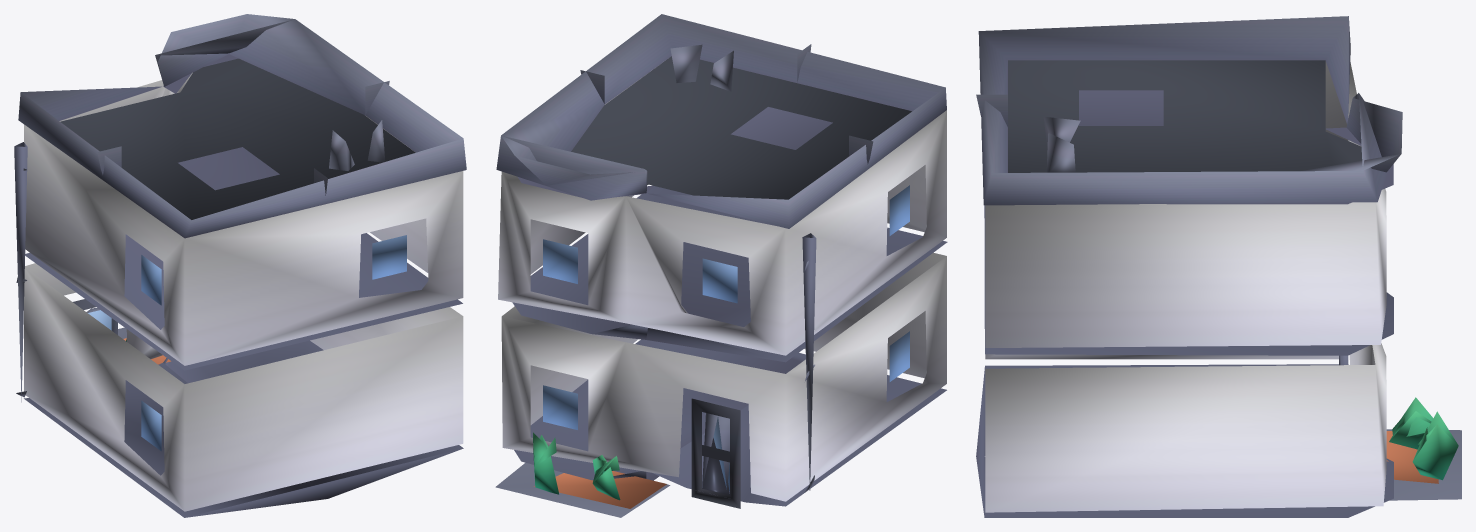
The model's file is tower-c-low.glb.
3 views of the same model, side by side, from view 1: azimuth 30°, elevation 25°; view 2: azimuth 150°, elevation 25°; view 3: azimuth 270°, elevation 25° (orthographic). The views are drawn at different scales.
Visible parts, largest first — view 1: building-c baked; view 2: building-c baked; view 3: building-c baked.
Part boxes in pixels (box(x1,y1,x2,y2)): building-c baked: box(14, 14, 466, 517); building-c baked: box(495, 14, 947, 517); building-c baked: box(976, 16, 1461, 517).
Size of the model in its own units: 27.61 by 28 by 33.67.
Materials: 1 (1 with a texture image).
